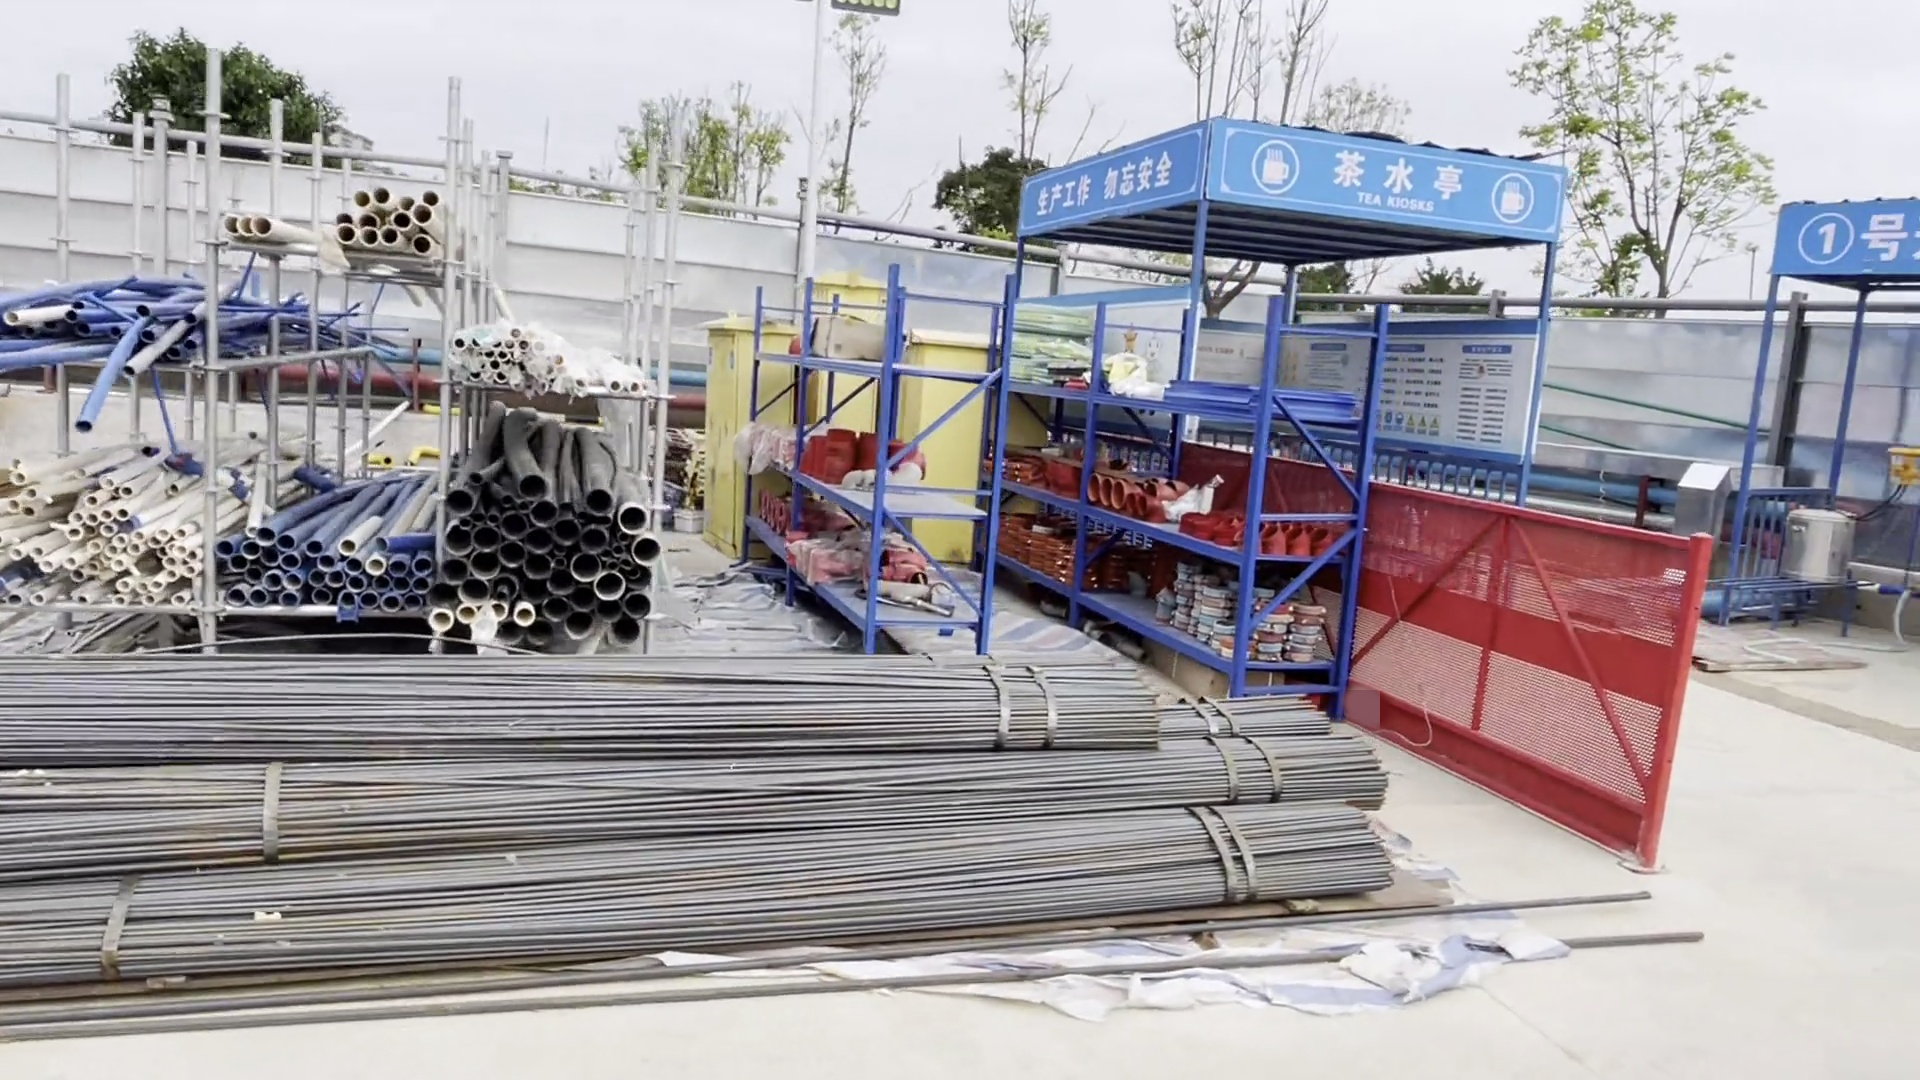ebox: (713, 276, 978, 558), (1886, 444, 1916, 487)
fence: (1349, 487, 1692, 886)
rebar: (1, 651, 1416, 968)
slogan: (1013, 121, 1207, 231)
